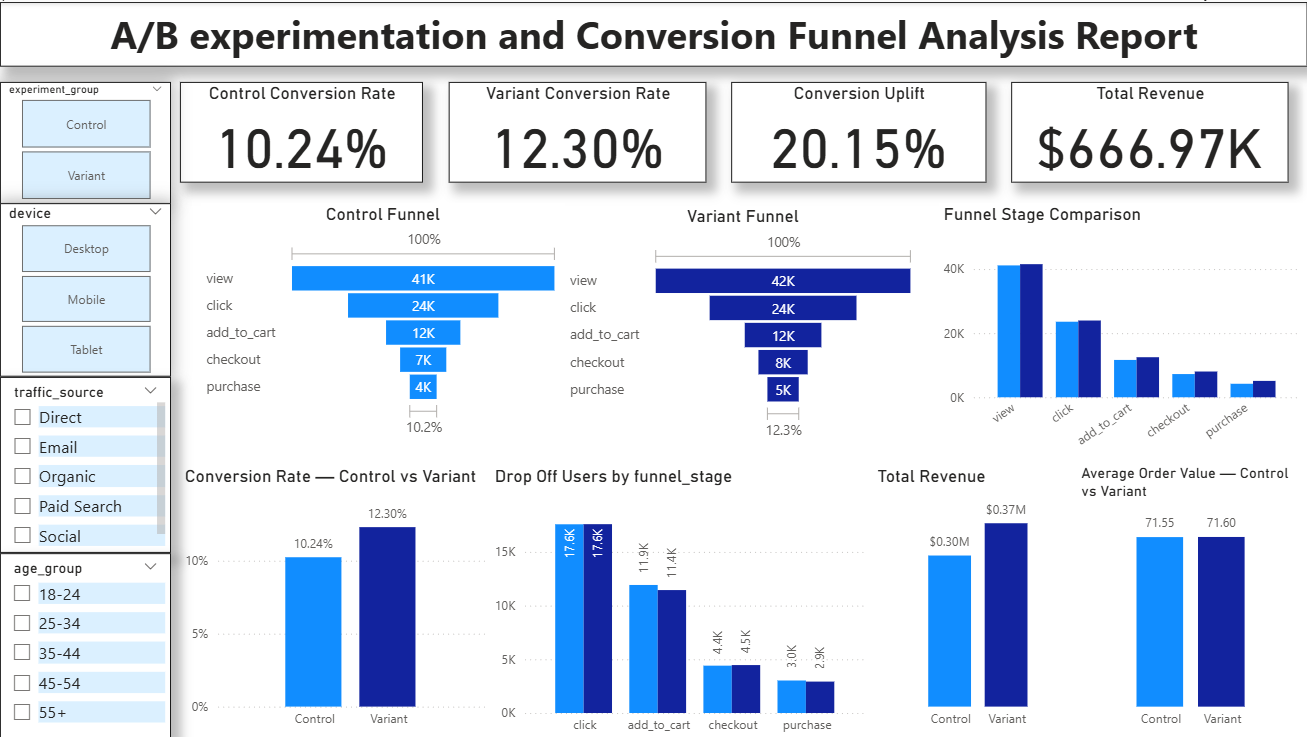

The dashboard page shown, as its layout file describes it:
{"tool":"powerbi","page":{"name":"Page 1","canvas":[1280,720],"ordinal":0},"visuals":[{"type":"textbox","box":[0,0,1280.3,63.1],"z":0},{"type":"card","title":"Control Conversion Rate","fields":{"Values":["public ab_experiment_users.Overall_Conversion_Rate"]},"box":[175.9,78.5,238,98.7],"z":1000},{"type":"card","title":"Variant Conversion Rate","fields":{"Values":["public ab_experiment_users.Overall_Conversion_Rate"]},"box":[439.2,78.5,251.9,98.7],"z":2000},{"type":"card","title":"Conversion Uplift","fields":{"Values":["public ab_experiment_users.Conversion_Uplift"]},"box":[715.2,78.5,249.4,98.7],"z":3000},{"type":"card","title":"Total Revenue","fields":{"Values":["public ab_experiment_users.Total_Revenue"]},"box":[989.9,78.5,270.9,98.7],"z":4000},{"type":"funnel","title":"Control Funnel","fields":{"Category":["public ab_experiment_users_Funnel.funnel_stage"],"Y":["Sum(public ab_experiment_users_Funnel.stage_reached)"]},"box":[197.5,197.5,355.7,234.2],"z":5000},{"type":"funnel","title":"Variant Funnel","fields":{"Category":["public ab_experiment_users_Funnel.funnel_stage"],"Y":["Sum(public ab_experiment_users_Funnel.stage_reached)"]},"box":[553.2,198.7,348.1,234.2],"z":6000},{"type":"clusteredColumnChart","title":"Funnel Stage Comparison","fields":{"Category":["public ab_experiment_users_Funnel.funnel_stage"],"Y":["Sum(public ab_experiment_users_Funnel.stage_reached)"],"Series":["public ab_experiment_users_Funnel.experiment_group"]},"box":[918,197.5,359,255],"z":7000},{"type":"clusteredColumnChart","title":"Conversion Rate — Control vs Variant","fields":{"Category":["public ab_experiment_users.experiment_group"],"Y":["public ab_experiment_users.Overall_Conversion_Rate"]},"box":[175.9,453.2,303.8,265.8],"z":8000},{"type":"clusteredColumnChart","title":"Drop Off Users by funnel_stage ","fields":{"Category":["public ab_experiment_users_Funnel.funnel_stage"],"Y":["public ab_experiment_users.Drop_Off_Users"],"Series":["public ab_experiment_users.experiment_group"]},"box":[479.7,453.2,373.4,267.1],"z":9000},{"type":"columnChart","title":"Total Revenue ","fields":{"Category":["public ab_experiment_users.experiment_group"],"Y":["public ab_experiment_users.Total_Revenue"]},"box":[853.2,453.2,208.9,265.8],"z":10000},{"type":"columnChart","title":"Average Order Value — Control vs Variant","fields":{"Category":["public ab_experiment_users.experiment_group"],"Y":["public ab_experiment_users.Average_Order_Value"]},"box":[1053.2,451.9,226.6,267.1],"z":11000},{"type":"slicer","fields":{"Values":["public ab_experiment_users.experiment_group"]},"box":[0,78.5,167.1,119],"z":12000},{"type":"slicer","fields":{"Values":["public ab_experiment_users.device"]},"box":[0,197.5,167.1,169.6],"z":13000},{"type":"slicer","fields":{"Values":["public ab_experiment_users.traffic_source"]},"box":[0,367.1,167.1,172.2],"z":14000},{"type":"slicer","fields":{"Values":["public ab_experiment_users.age_group"]},"box":[0,539.2,167.1,181],"z":15000}]}

Visuals, with their boxes in screenshot pixels (x1, y1, x2, y2), scaled from the page's 1280x720 canvas onto the 1307x737 screenshot:
textbox: select_region(0, 0, 1306, 65)
"Control Conversion Rate" card: select_region(180, 80, 423, 181)
"Variant Conversion Rate" card: select_region(448, 80, 706, 181)
"Conversion Uplift" card: select_region(730, 80, 985, 181)
"Total Revenue" card: select_region(1011, 80, 1287, 181)
"Control Funnel" funnel: select_region(202, 202, 565, 442)
"Variant Funnel" funnel: select_region(565, 203, 920, 443)
"Funnel Stage Comparison" clusteredColumnChart: select_region(937, 202, 1304, 463)
"Conversion Rate — Control vs Variant" clusteredColumnChart: select_region(180, 464, 490, 736)
"Drop Off Users by funnel_stage " clusteredColumnChart: select_region(490, 464, 871, 736)
"Total Revenue " columnChart: select_region(871, 464, 1085, 736)
"Average Order Value — Control vs Variant" columnChart: select_region(1075, 463, 1306, 736)
slicer - public ab_experiment_users.experiment_group: select_region(0, 80, 171, 202)
slicer - public ab_experiment_users.device: select_region(0, 202, 171, 376)
slicer - public ab_experiment_users.traffic_source: select_region(0, 376, 171, 552)
slicer - public ab_experiment_users.age_group: select_region(0, 552, 171, 736)
